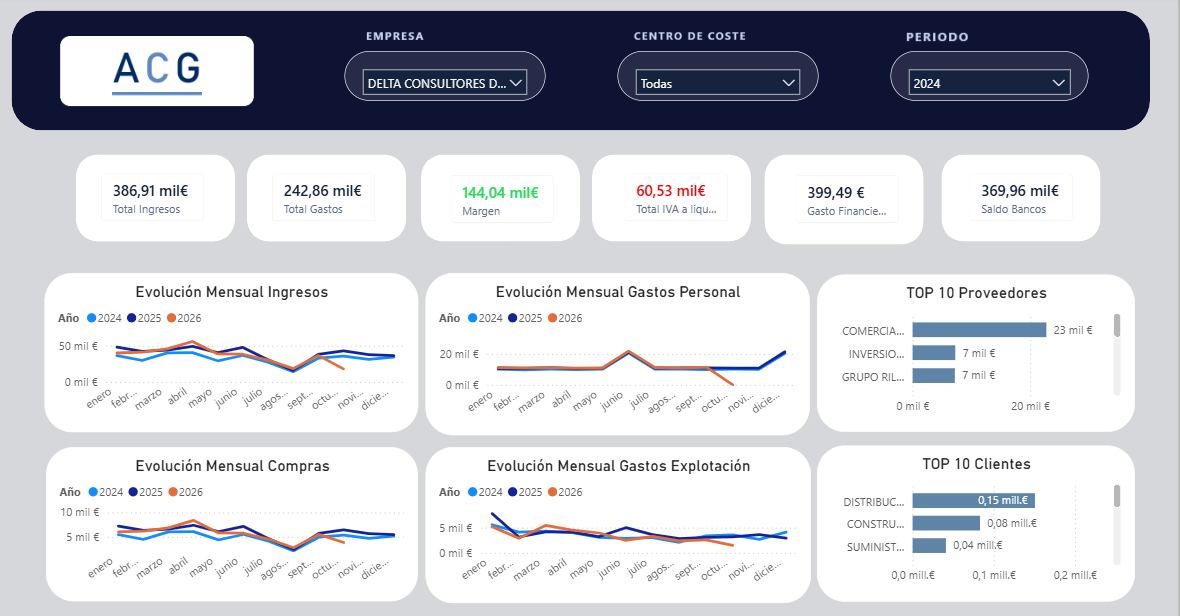

This screenshot's page, from the dashboard's own definition file:
{"tool":"powerbi","page":{"name":"Dashboard","canvas":[1280,720],"ordinal":0},"visuals":[{"type":"shape","box":[14.6,17.9,1234.5,130.1],"z":0},{"type":"shape","box":[84.6,174,172.4,94.3],"z":0,"group":"g9"},{"type":"shape","box":[84.6,174,172.4,94.3],"z":0,"group":"g2"},{"type":"shape","box":[270,174,172.4,94.3],"z":0,"group":"g3"},{"type":"shape","box":[270,174,172.4,94.3],"z":0,"group":"g10"},{"type":"shape","box":[1023.1,174,172.4,94.3],"z":0,"group":"g1"},{"type":"slicer","title":"Empresa","fields":{"Values":["Clientes_ACG.NOMBRE","Clientes_ACG.Codigo_empresa"]},"box":[375.7,61.8,218,53.7],"z":2000},{"type":"shape","box":[458.7,174,172.4,94.3],"z":3000},{"type":"shape","box":[644.1,174,172.4,94.3],"z":4000},{"type":"shape","box":[831.2,174,172.4,94.3],"z":5000},{"type":"shape","box":[831.2,177.3,172.4,94.3],"z":6000},{"type":"group","id":"g1","title":"Grupo 5","box":[1023.1,174,172.4,94.3],"z":7000},{"type":"group","id":"g2","title":"Grupo 5","box":[84.6,174,172.4,94.3],"z":7500,"group":"g4"},{"type":"group","id":"g3","title":"Grupo 5","box":[270,174,172.4,94.3],"z":7500,"group":"g5"},{"type":"cardVisual","fields":{"Data":["Medidas.Gasto Financiero"]},"box":[847.4,178.9,146.4,86.2],"z":8000},{"type":"group","id":"g4","title":"Grupo 8","box":[84.6,174,172.4,94.3],"z":9000,"group":"g8"},{"type":"group","id":"g5","title":"Grupo 8","box":[270,174,172.4,94.3],"z":9000,"group":"g7"},{"type":"group","id":"g6","title":"Grupo 13","box":[50.9,302.2,1182.6,357.6],"z":9000},{"type":"cardVisual","fields":{"Data":["Medidas.Margen"]},"box":[473.3,178.9,146.4,86.2],"z":10000},{"type":"cardVisual","fields":{"Data":["Medidas.Saldo Bancos"]},"box":[1036.1,177.3,146.4,86.2],"z":11000},{"type":"shape","box":[92.7,177.3,151.3,86.2],"z":12000,"group":"g8"},{"type":"shape","box":[278.1,177.3,151.3,86.2],"z":12000,"group":"g7"},{"type":"cardVisual","fields":{"Data":["Medidas.Total IVA a liquidar"]},"box":[662,177.3,146.4,86.2],"z":12000},{"type":"slicer","title":"Empresa","fields":{"Values":["CLA_2026.DESCRIP"]},"box":[671.8,61.8,218,53.7],"z":13000},{"type":"slicer","title":"Empresa","fields":{"Values":["Calendario.Año","Calendario.Trimestre","Calendario.NombreMes","Calendario.Día"]},"box":[967.8,61.8,214.7,53.7],"z":14000},{"type":"lineChart","title":"Evolución Mensual Ingresos","fields":{"Category":["Calendario.NombreMes"],"Series":["Calendario.Año"],"Y":["Medidas.Total Facturado"]},"box":[50.9,302.5,405,172.4],"z":14000,"group":"g6"},{"type":"group","id":"g7","title":"Grupo 1","box":[270,174,172.4,94.3],"z":15000},{"type":"lineChart","title":"Evolución Mensual Gastos Personal","fields":{"Category":["Calendario.NombreMes"],"Series":["Calendario.Año"],"Y":["Medidas.Gasto Personal"]},"box":[464.1,302.2,416.4,175.7],"z":15000,"group":"g6"},{"type":"group","id":"g8","title":"Grupo 1","box":[84.6,174,172.4,94.3],"z":16000},{"type":"image","box":[662,0,177.3,89.5],"z":17000},{"type":"group","id":"g9","title":"Grupo 5","box":[84.6,174,172.4,94.3],"z":17000,"group":"g8"},{"type":"group","id":"g10","title":"Grupo 5","box":[270,174,172.4,94.3],"z":17000,"group":"g7"},{"type":"image","box":[317.2,24.4,227.7,40.7],"z":18000},{"type":"lineChart","title":"Evolución Mensual Compras","fields":{"Category":["Calendario.NombreMes"],"Series":["Calendario.Año"],"Y":["Medidas.Evolucion_Compras"]},"box":[52.6,490.6,403.4,167.5],"z":18000,"group":"g6"},{"type":"image","box":[917.4,16.3,203.3,58.6],"z":19000},{"type":"lineChart","title":"Evolución Mensual Gastos Explotación","fields":{"Category":["Calendario.NombreMes"],"Series":["Calendario.Año"],"Y":["Medidas.Gasto_Explotación"]},"box":[464.1,490.6,418,169.2],"z":19000,"group":"g6"},{"type":"image","box":[37.7,45.8,270.2,76.3],"z":20000},{"type":"clusteredBarChart","title":"TOP 10 Proveedores","fields":{"Category":["MAY_2026.TITULO"],"Y":["Medidas.Top_Proveedores_Operaciones"]},"box":[888.7,303.5,344.8,170.8],"z":20000,"group":"g6"},{"type":"clusteredBarChart","title":"TOP 10 Clientes","fields":{"Category":["MAY_2026.TITULO"],"Y":["Medidas.Top_Clientes_Operaciones"]},"box":[888.7,489,344.8,169.2],"z":21000,"group":"g6"},{"type":"cardVisual","fields":{"Data":["Medidas.Total Facturado"]},"box":[94.4,177.3,146.4,86.2],"z":25000,"group":"g8"},{"type":"cardVisual","fields":{"Data":["Medidas.Total Gastos"]},"box":[279.8,177.3,146.4,86.2],"z":25000,"group":"g7"}]}

Visuals, with their boxes on the page's 1280x720 design canvas (x1, y1, x2, y2). These are canvas units, not pixel positions in the 1180x616 screenshot, which may show the page scaled, cropped or inside an application window:
shape: locate(15, 18, 1249, 148)
shape: locate(85, 174, 257, 268)
shape: locate(85, 174, 257, 268)
shape: locate(270, 174, 442, 268)
shape: locate(270, 174, 442, 268)
shape: locate(1023, 174, 1196, 268)
"Empresa" slicer: locate(376, 62, 594, 116)
shape: locate(459, 174, 631, 268)
shape: locate(644, 174, 816, 268)
shape: locate(831, 174, 1004, 268)
shape: locate(831, 177, 1004, 272)
"Grupo 5" group: locate(1023, 174, 1196, 268)
"Grupo 5" group: locate(85, 174, 257, 268)
"Grupo 5" group: locate(270, 174, 442, 268)
cardVisual - Medidas.Gasto Financiero: locate(847, 179, 994, 265)
"Grupo 8" group: locate(85, 174, 257, 268)
"Grupo 8" group: locate(270, 174, 442, 268)
"Grupo 13" group: locate(51, 302, 1234, 660)
cardVisual - Medidas.Margen: locate(473, 179, 620, 265)
cardVisual - Medidas.Saldo Bancos: locate(1036, 177, 1182, 264)
shape: locate(93, 177, 244, 264)
shape: locate(278, 177, 429, 264)
cardVisual - Medidas.Total IVA a liquidar: locate(662, 177, 808, 264)
"Empresa" slicer: locate(672, 62, 890, 116)
"Empresa" slicer: locate(968, 62, 1182, 116)
"Evolución Mensual Ingresos" lineChart: locate(51, 302, 456, 475)
"Grupo 1" group: locate(270, 174, 442, 268)
"Evolución Mensual Gastos Personal" lineChart: locate(464, 302, 880, 478)
"Grupo 1" group: locate(85, 174, 257, 268)
image: locate(662, 0, 839, 90)
"Grupo 5" group: locate(85, 174, 257, 268)
"Grupo 5" group: locate(270, 174, 442, 268)
image: locate(317, 24, 545, 65)
"Evolución Mensual Compras" lineChart: locate(53, 491, 456, 658)
image: locate(917, 16, 1121, 75)
"Evolución Mensual Gastos Explotación" lineChart: locate(464, 491, 882, 660)
image: locate(38, 46, 308, 122)
"TOP 10 Proveedores" clusteredBarChart: locate(889, 304, 1234, 474)
"TOP 10 Clientes" clusteredBarChart: locate(889, 489, 1234, 658)
cardVisual - Medidas.Total Facturado: locate(94, 177, 241, 264)
cardVisual - Medidas.Total Gastos: locate(280, 177, 426, 264)
